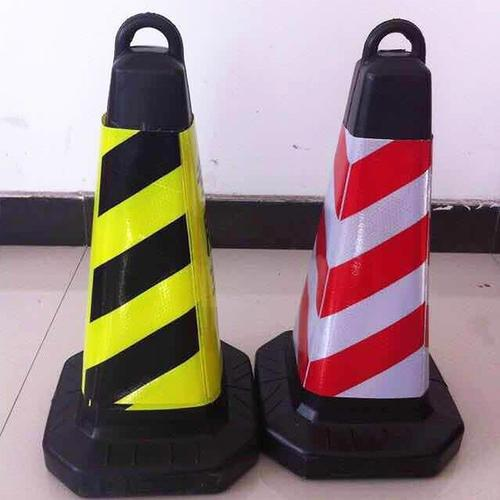cone_barrel: (44, 19, 244, 476), (265, 11, 465, 465)
